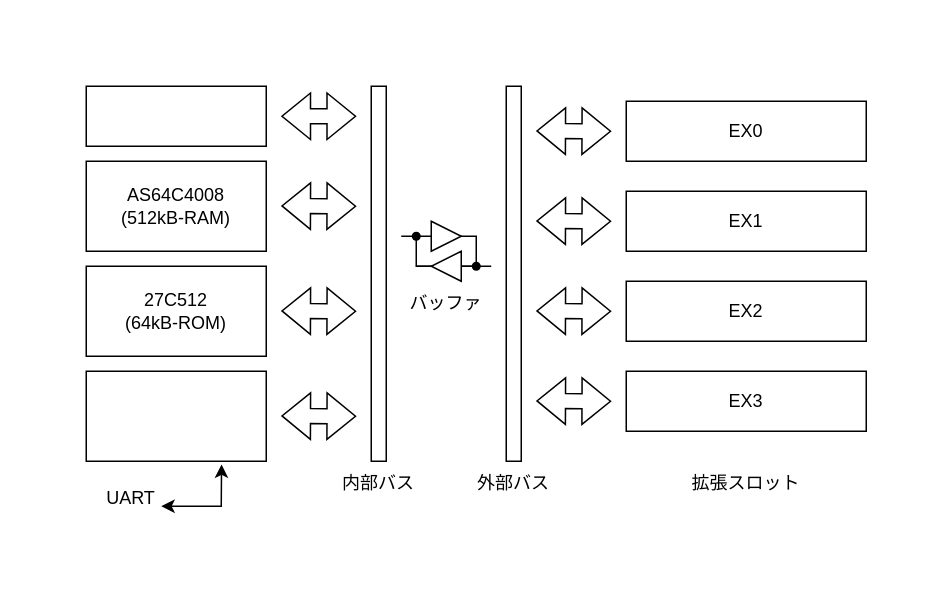
The diagram is 951 pixels wide and 591 high, and some of its shapes have lost their labels. The box of each missing label's shape, as (x1, y1, x2, y2) in pixels:
MC68008(MPU): (85, 85, 266, 146)
MC68901 (MFP ): (85, 370, 266, 461)
